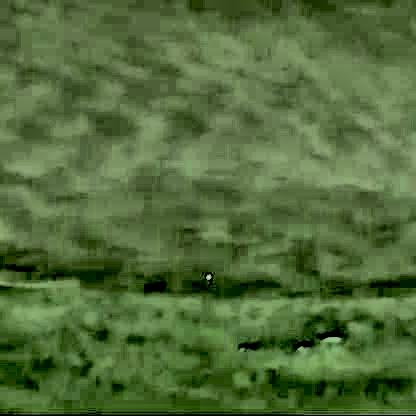golfball: (202, 270, 212, 280)
